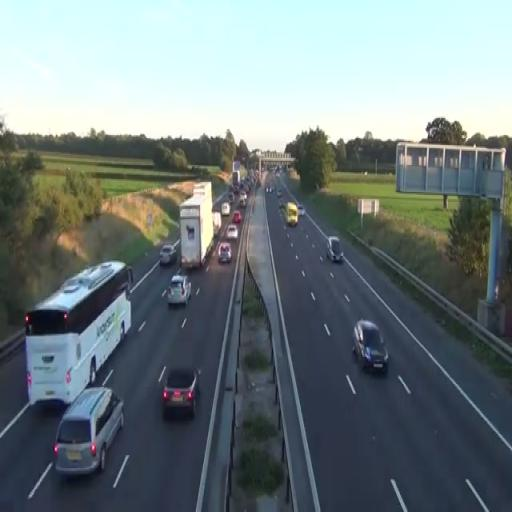Bus: (24, 259, 134, 408)
Car: (52, 384, 126, 478), (161, 365, 201, 420), (352, 320, 389, 374), (166, 273, 192, 306), (326, 236, 344, 263), (159, 243, 179, 266), (218, 242, 232, 264), (232, 210, 242, 224)
Truck: (179, 182, 214, 270)
